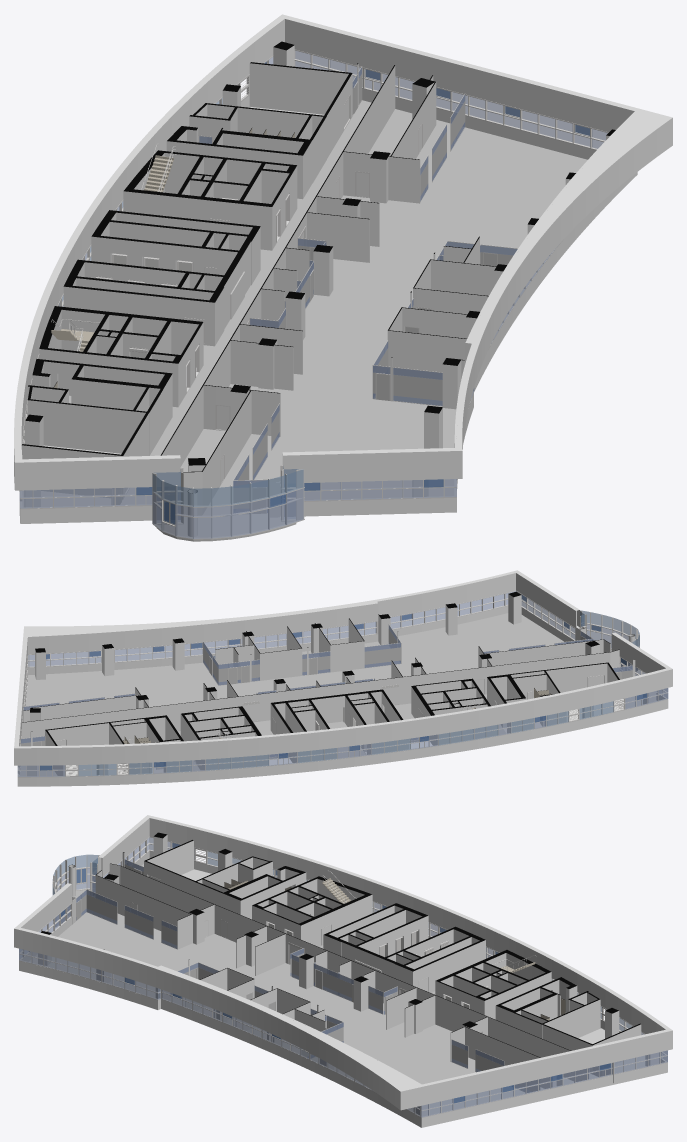
3 renders of one model, top to bottom at view 1: azimuth 30°, elevation 25°; view 2: azimuth 150°, elevation 25°; view 3: azimuth 270°, elevation 25°, orthographic. The views are drawn at different scales.
Visible parts, largest first — view 1: A1-7F-Wall, A1-7F-Floor, A1-7F-In Dry Wall, A1-7F-Dry Wall, A1-7F-Glass1, A1-7F-Column, A1-7F-Glass Wall, A1-7F-Frame, A1-7F-Door, A1-7F-Glass2, A1-7F-Stairs, A1-7F-Elevator (+1 smaller); view 2: A1-7F-Wall, A1-7F-In Dry Wall, A1-7F-Dry Wall, A1-7F-Floor, A1-7F-Glass1, A1-7F-Frame, A1-7F-Glass2, A1-7F-Column, A1-7F-Glass Wall, A1-7F-Door, A1-7F-Glass3, A1-7F-Vent; view 3: A1-7F-Wall, A1-7F-In Dry Wall, A1-7F-Dry Wall, A1-7F-Floor, A1-7F-Glass1, A1-7F-Glass Wall, A1-7F-Frame, A1-7F-Column, A1-7F-Door, A1-7F-Glass2, A1-7F-Elevator, A1-7F-Glass3 (+1 smaller).
Part boxes in pixels (x1,y1,x2,y2): A1-7F-Wall: (21, 62, 496, 515); A1-7F-Floor: (22, 100, 587, 541); A1-7F-In Dry Wall: (19, 17, 637, 523); A1-7F-Dry Wall: (14, 14, 672, 490); A1-7F-Glass1: (19, 51, 607, 538); A1-7F-Column: (24, 41, 615, 536); A1-7F-Glass Wall: (113, 66, 517, 517); A1-7F-Frame: (19, 49, 608, 539); A1-7F-Door: (118, 81, 497, 513); A1-7F-Glass2: (62, 98, 303, 506); A1-7F-Stairs: (51, 144, 175, 351); A1-7F-Elevator: (95, 194, 289, 393); A1-7F-Wall: (20, 614, 635, 775); A1-7F-In Dry Wall: (17, 572, 668, 786); A1-7F-Dry Wall: (14, 570, 672, 765); A1-7F-Floor: (20, 613, 642, 775); A1-7F-Glass1: (17, 591, 668, 776); A1-7F-Frame: (17, 590, 667, 777); A1-7F-Glass2: (78, 610, 639, 776); A1-7F-Column: (27, 591, 655, 775); A1-7F-Glass Wall: (21, 624, 632, 746); A1-7F-Door: (32, 636, 621, 762); A1-7F-Glass3: (40, 594, 647, 770); A1-7F-Vent: (65, 698, 624, 776); A1-7F-Wall: (95, 840, 641, 1088); A1-7F-In Dry Wall: (19, 817, 667, 1127); A1-7F-Dry Wall: (14, 815, 672, 1110); A1-7F-Floor: (29, 864, 645, 1114); A1-7F-Glass1: (19, 837, 667, 1117); A1-7F-Glass Wall: (69, 859, 610, 1092); A1-7F-Frame: (19, 837, 667, 1117); A1-7F-Column: (38, 832, 658, 1116); A1-7F-Door: (76, 868, 602, 1076); A1-7F-Glass2: (52, 851, 632, 1030); A1-7F-Elevator: (267, 914, 488, 1008); A1-7F-Glass3: (61, 842, 611, 1103).
Bounding box in the file's own units: 71.25 × 5.2 × 71.71.
